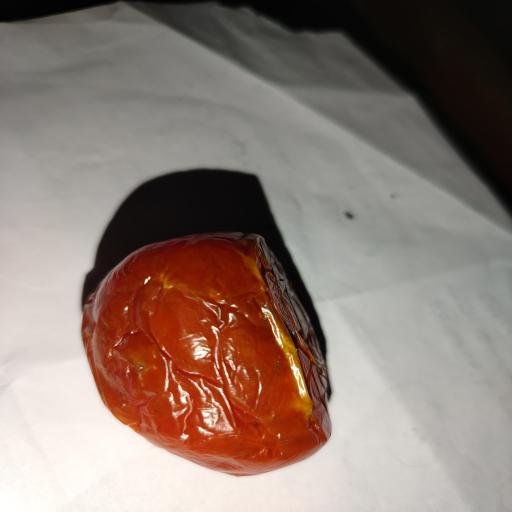spoiled: (82, 235, 330, 474)
